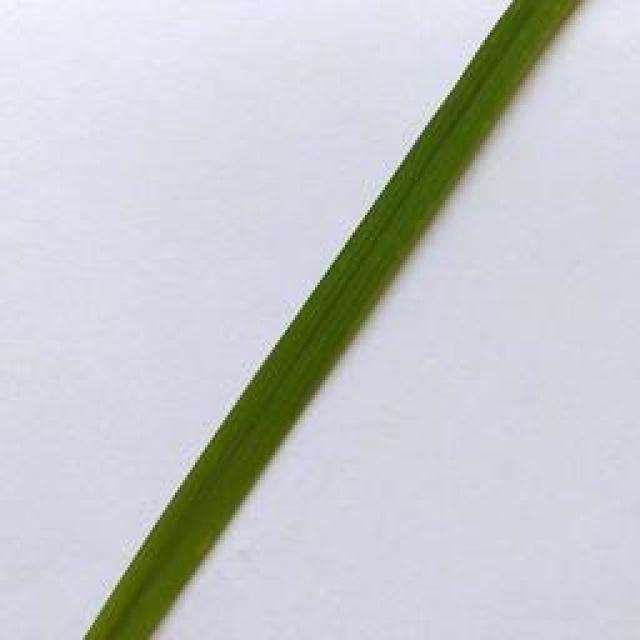Healthy-Plant: (84, 0, 584, 640)
